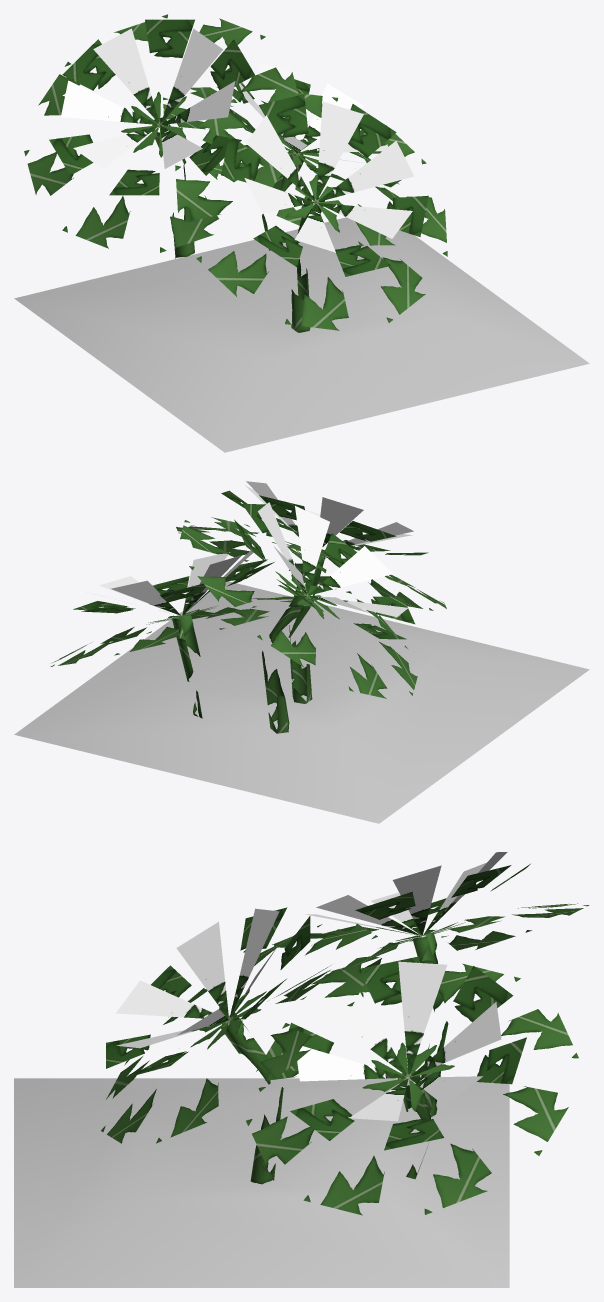
The model's file is flour01.fbx.
3 views of the same model, one above another, from view 1: azimuth 30°, elevation 25°; view 2: azimuth 150°, elevation 25°; view 3: azimuth 270°, elevation 25° (orthographic). The views are drawn at different scales.
Visible parts, largest first — view 1: flour01_leaf, flour01_flower_petal_stem_upper_row_1, flour01_flower_petal_stem_upper_row5, flour01_flower_petal_stem_upper_row4, flour01_flower_petal_stem_upper_row1_1, flour01_flower_petal_stem_upper_row5_1, flour01_flower_petal_stem_lower_column2, flour01_flower_petal_stem_upper_row, flour01_flower_petal_stem_lower_column3_1, flour01_flower_petal_stem_middle_1, flour01_flower_petal_stem_lower_column4, flour01_flower_petal_stem_upper_row3 (+29 smaller); view 2: flour01_leaf, flour01_stem1, flour01_flower_petal_stem_upper_row3_1, flour01_flower_petal_stem_upper_row4_1, flour01_stem2, flour01_stem, flour01_flower_petal_stem_upper_row, flour01_flower_petal_stem_lower_column1_1, flour01_flower_petal_stem_lower_column_1, flour01_flower_petal_stem_lower_column2_1, flour01_flower_petal_stem_upper_row5_2, flour01_flower_petal_stem_lower_column7_1 (+11 smaller); view 3: flour01_leaf, flour01_flower_petal_stem_upper_row_2, flour01_flower_petal_stem_upper_row1_2, flour01_flower_petal_stem_upper_row1, flour01_flower_petal_stem_lower_column5_2, flour01_flower_petal_stem_upper_row2_2, flour01_flower_petal_stem_upper_row2, flour01_flower_petal_stem_upper_row5_2, flour01_flower_petal_stem_lower_column3_2, flour01_flower_petal_stem_lower_column4_2, flour01_flower_petal_stem_lower_column6_2, flour01_stem (+28 smaller).
Part boxes in pixels (x1,y1,x2,y2): flour01_leaf: [14, 217, 589, 452]; flour01_flower_petal_stem_upper_row_1: [93, 28, 159, 124]; flour01_flower_petal_stem_upper_row5: [316, 101, 363, 201]; flour01_flower_petal_stem_upper_row4: [316, 141, 413, 202]; flour01_flower_petal_stem_upper_row1_1: [61, 80, 159, 124]; flour01_flower_petal_stem_upper_row5_1: [160, 28, 222, 124]; flour01_flower_petal_stem_lower_column2: [196, 203, 315, 296]; flour01_flower_petal_stem_upper_row: [246, 115, 315, 201]; flour01_flower_petal_stem_lower_column3_1: [62, 125, 159, 248]; flour01_flower_petal_stem_middle_1: [145, 19, 194, 57]; flour01_flower_petal_stem_lower_column4: [316, 203, 425, 322]; flour01_flower_petal_stem_upper_row3: [316, 202, 412, 238]; flour01_leaf: [14, 581, 589, 823]; flour01_stem1: [262, 590, 313, 733]; flour01_flower_petal_stem_upper_row3_1: [308, 546, 392, 595]; flour01_flower_petal_stem_upper_row4_1: [295, 506, 329, 595]; flour01_stem2: [172, 614, 202, 718]; flour01_stem: [289, 555, 325, 703]; flour01_flower_petal_stem_upper_row: [320, 497, 363, 546]; flour01_flower_petal_stem_lower_column1_1: [257, 596, 315, 667]; flour01_flower_petal_stem_lower_column_1: [189, 566, 306, 606]; flour01_flower_petal_stem_lower_column2_1: [308, 597, 387, 698]; flour01_flower_petal_stem_upper_row5_2: [110, 580, 181, 615]; flour01_flower_petal_stem_lower_column7_1: [180, 520, 306, 595]; flour01_leaf: [14, 1078, 509, 1287]; flour01_flower_petal_stem_upper_row_2: [398, 961, 447, 1076]; flour01_flower_petal_stem_upper_row1_2: [313, 982, 408, 1077]; flour01_flower_petal_stem_upper_row1: [176, 922, 228, 1019]; flour01_flower_petal_stem_lower_column5_2: [409, 1078, 491, 1214]; flour01_flower_petal_stem_upper_row2_2: [297, 1046, 407, 1081]; flour01_flower_petal_stem_upper_row2: [116, 980, 212, 1018]; flour01_flower_petal_stem_upper_row5_2: [410, 1002, 501, 1076]; flour01_flower_petal_stem_lower_column3_2: [246, 1078, 407, 1165]; flour01_flower_petal_stem_lower_column4_2: [303, 1156, 384, 1215]; flour01_flower_petal_stem_lower_column6_2: [503, 1086, 568, 1155]; flour01_stem: [221, 1012, 283, 1184].
Bounding box in the file's own units: 66 × 47.92 × 76.67.
